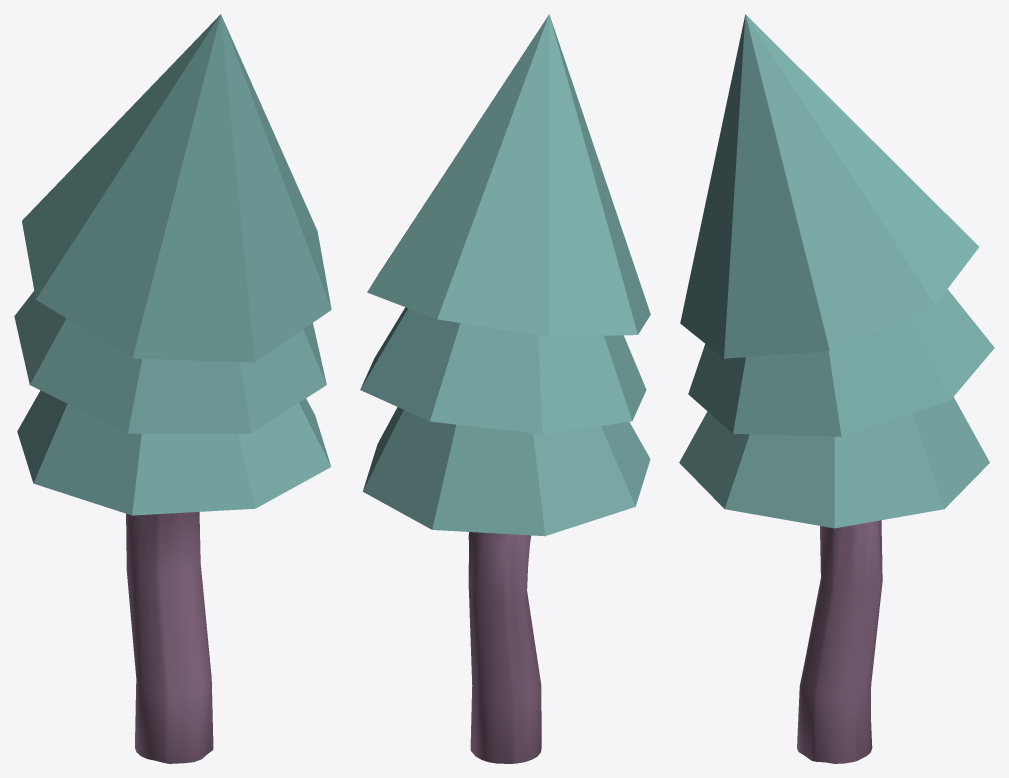
The model's file is strom 2 UV TEXTURE v02.fbx.
3 views of the same model, side by side, from view 1: azimuth 30°, elevation 25°; view 2: azimuth 150°, elevation 25°; view 3: azimuth 270°, elevation 25° (orthographic). The views are drawn at different scales.
Parts seen in each view (by area): view 1: pCylinder1; view 2: pCylinder1; view 3: pCylinder1.
Boxes of the visible parts, box(x1,y1,x2,y2) form: pCylinder1: box(14, 14, 331, 763); pCylinder1: box(360, 14, 650, 763); pCylinder1: box(679, 14, 994, 763).
Bounding box in the file's own units: 0.64 × 1.67 × 0.6499.
